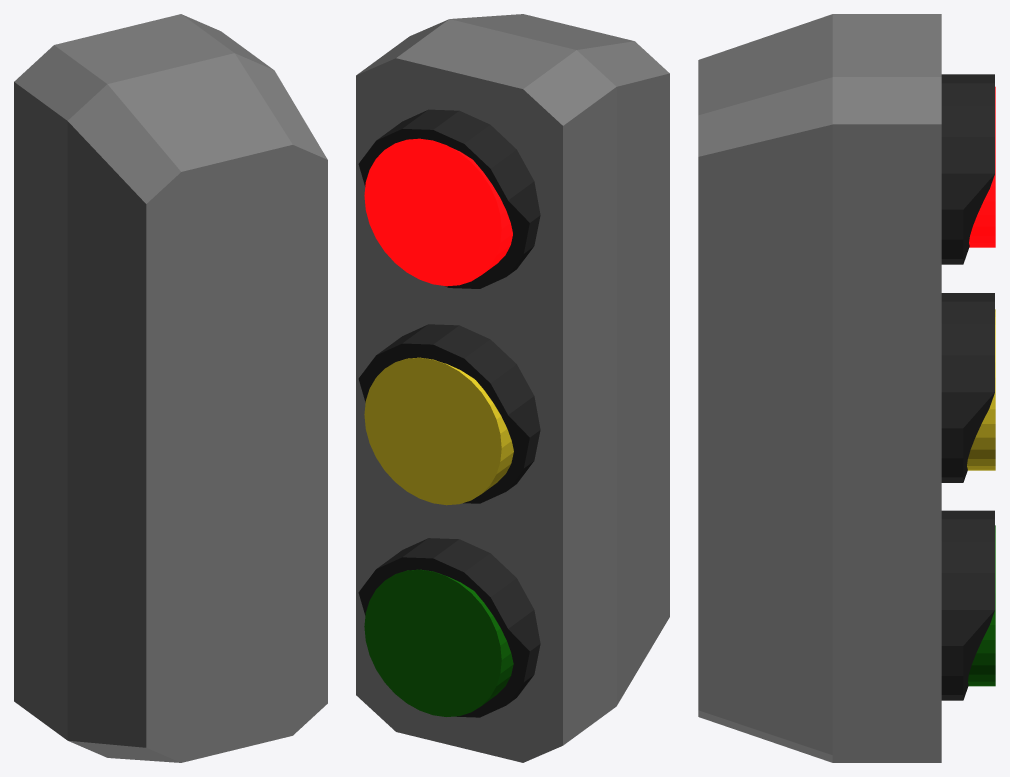
Rendered from red.glb.
3 views of the same model, side by side, from view 1: azimuth 30°, elevation 25°; view 2: azimuth 150°, elevation 25°; view 3: azimuth 270°, elevation 25° (orthographic).
Visible parts, largest first — view 1: Cube; view 2: Cube, Cylinder.001, Cylinder.004, Cylinder, Cylinder.003, Cylinder.002, Cylinder.005; view 3: Cube, Cylinder.005, Cylinder.002, Cylinder.003, Cylinder.001, Cylinder.004, Cylinder.
Part boxes in pixels (x1,y1,x2,y2): Cube: [14, 14, 327, 762]; Cube: [356, 14, 669, 762]; Cylinder.001: [364, 357, 513, 505]; Cylinder.004: [364, 569, 513, 716]; Cylinder: [364, 138, 512, 286]; Cylinder.003: [358, 324, 540, 503]; Cylinder.002: [358, 538, 540, 717]; Cylinder.005: [358, 109, 540, 288]; Cube: [698, 14, 941, 762]; Cylinder.005: [941, 74, 994, 264]; Cylinder.002: [941, 510, 994, 700]; Cylinder.003: [941, 293, 994, 482]; Cylinder.001: [967, 309, 995, 470]; Cylinder.004: [968, 525, 995, 686]; Cylinder: [969, 86, 995, 247].
Size of the model in its own units: 2 by 6.22 by 2.44.
